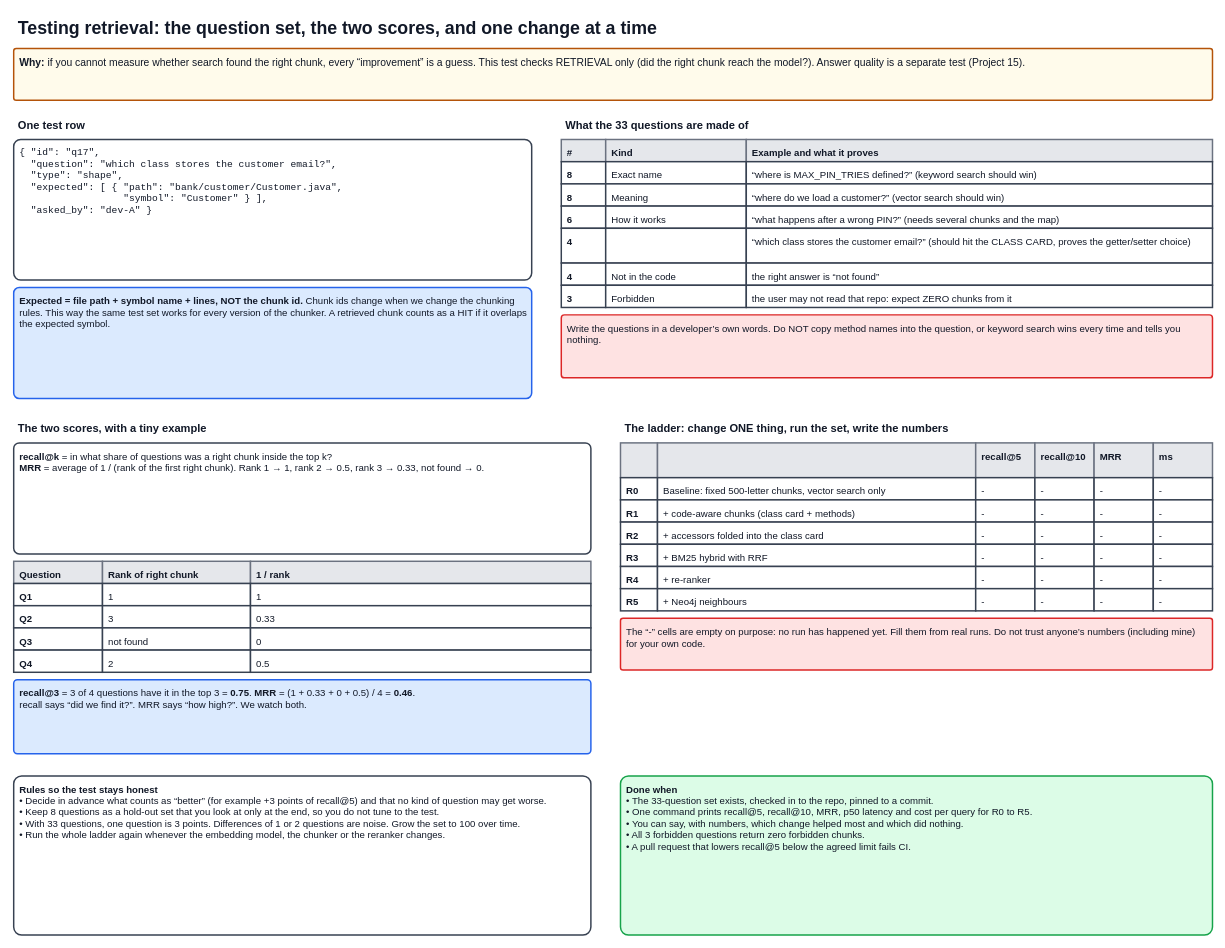
This 1225x948 diagram has some shape labels left out. The shapes that lost their labels are listed below. From the top down, each one's centre as x and y in pixels, then its label:
At point (676, 245): "Shape / accessors".
At point (638, 460): "Run".
At point (816, 460): "What changed".
